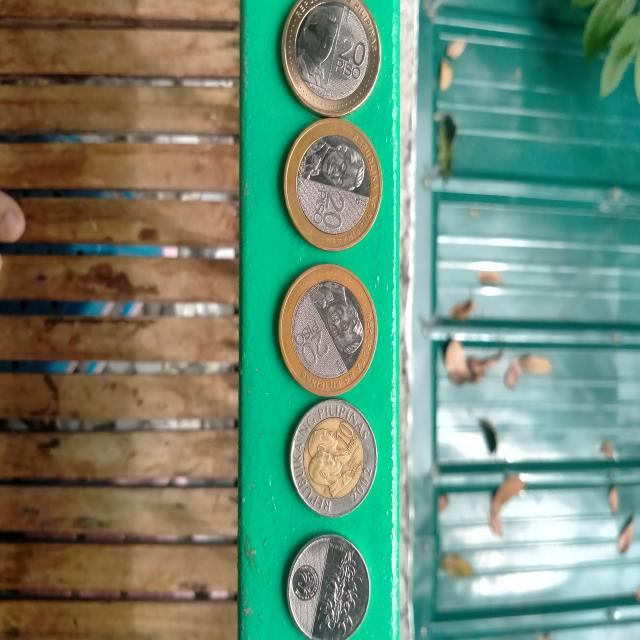10_Old_Front: (326, 421, 364, 461)
20_New_Front: (308, 186, 361, 233), (328, 30, 370, 82)
5_New_Back: (320, 549, 362, 637)
